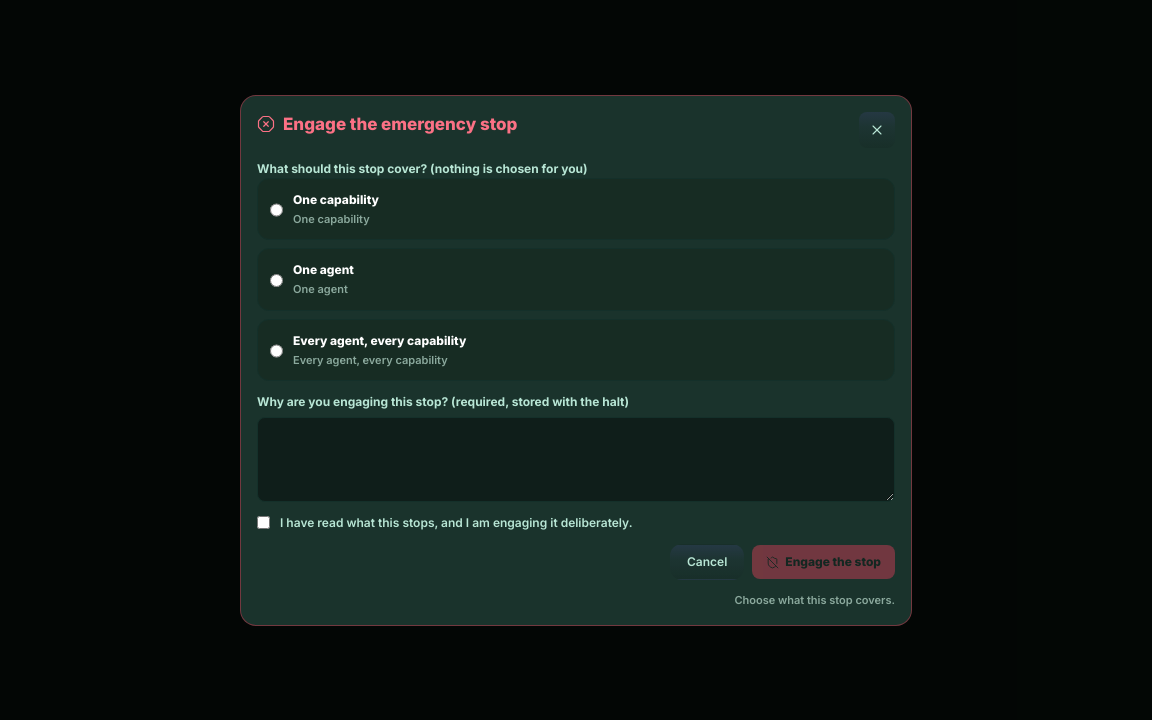
Test: engaging the stop is deliberate › un-ticks the acknowledgement again if the scope is changed after it was ticked
Click the radio button labelled "Every agent, every capability Every agent, every capability" at (276, 351), box left=270, top=334, right=283, bottom=368
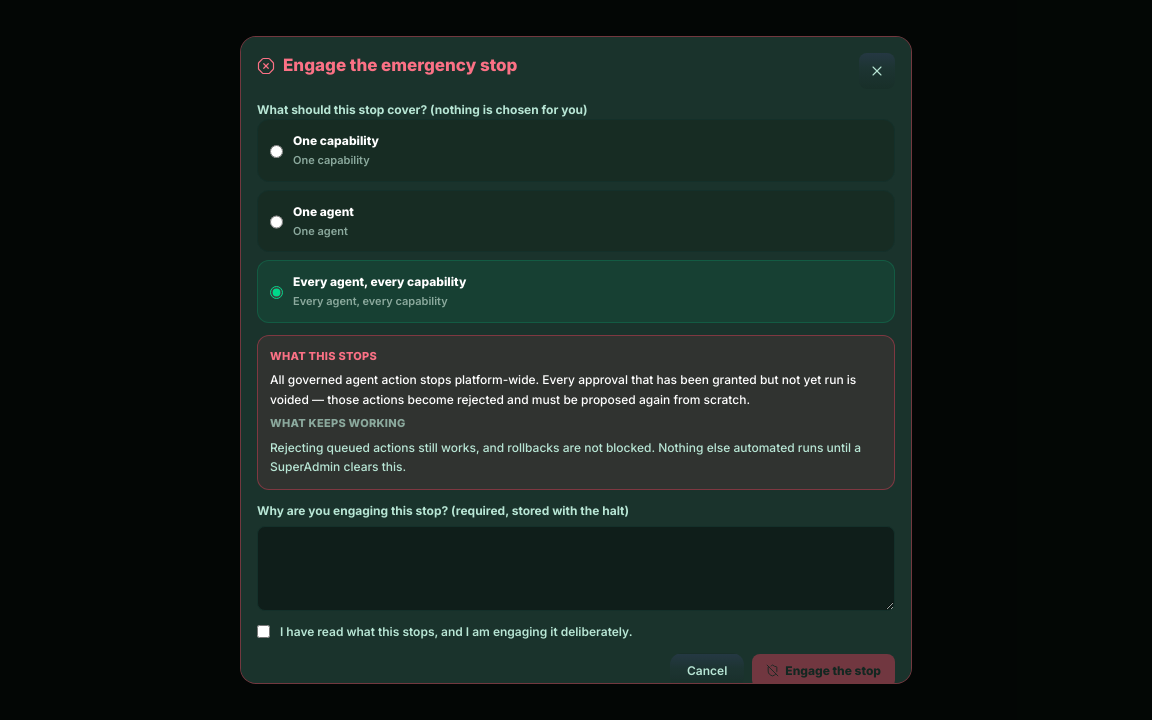
Type "Kill switch drill." into the text box with test id "halt-reason" at (576, 568), box left=257, top=526, right=895, bottom=610
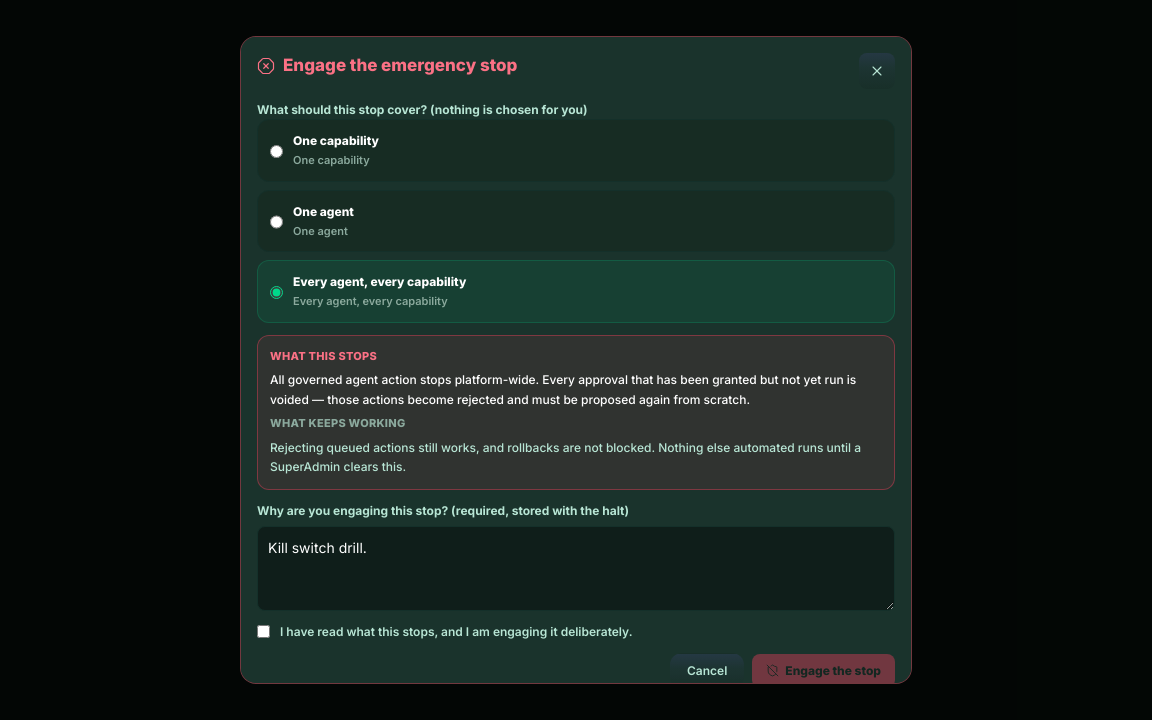
Click the checkbox with test id "halt-acknowledge" at (264, 631), box left=257, top=624, right=270, bottom=638
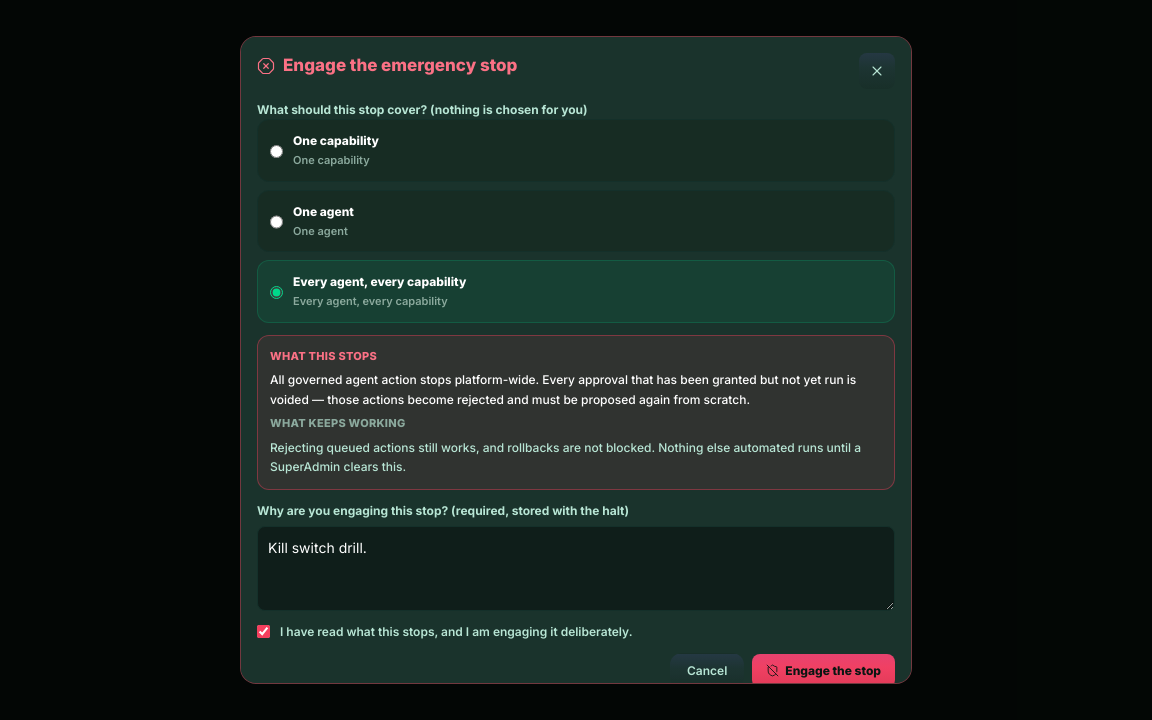
Check: the button with test id "halt-confirm" is enabled, box left=752, top=654, right=895, bottom=684
Click the radio button labelled "One capability One capability" at (276, 151), box left=270, top=134, right=283, bottom=168
(page scrolled)
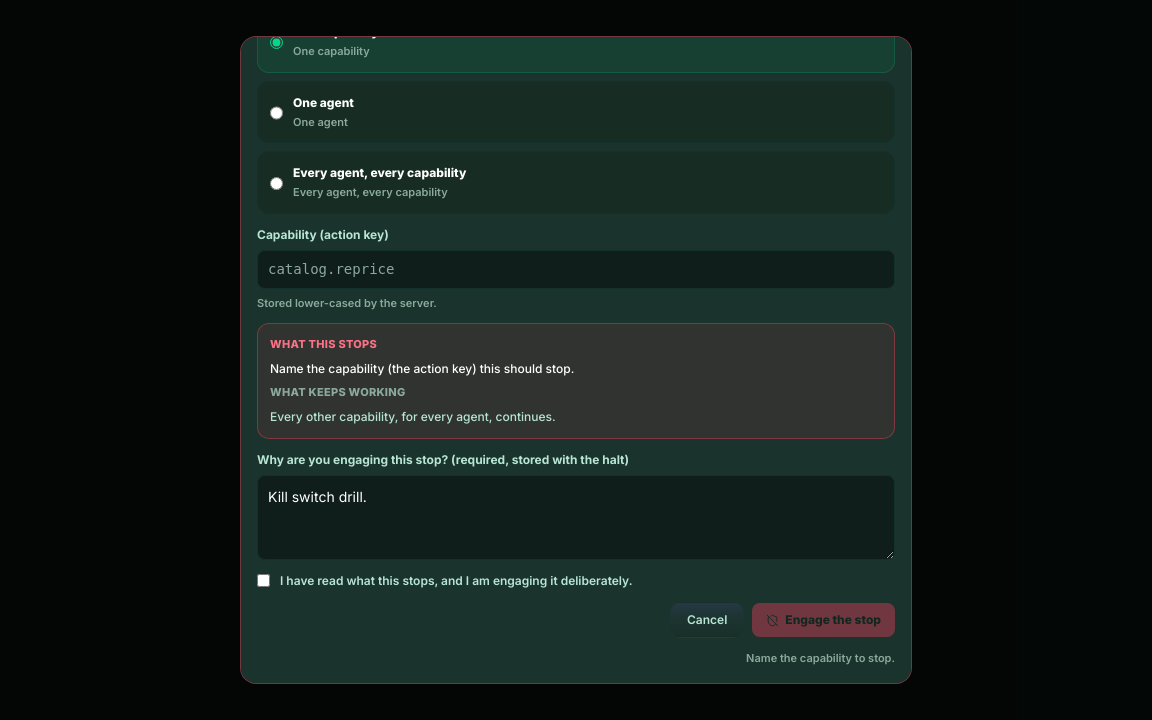
Check: the checkbox with test id "halt-acknowledge" is not checked, box left=257, top=574, right=270, bottom=587
Check: the button with test id "halt-confirm" is disabled, box left=752, top=603, right=895, bottom=637
